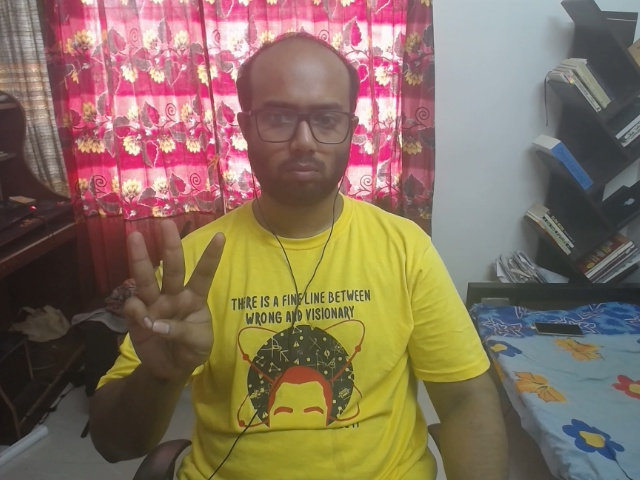four: (101, 209, 244, 376)
